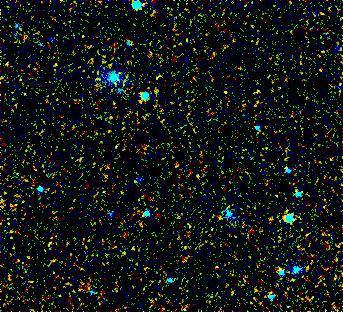star: (126, 87, 156, 117)
